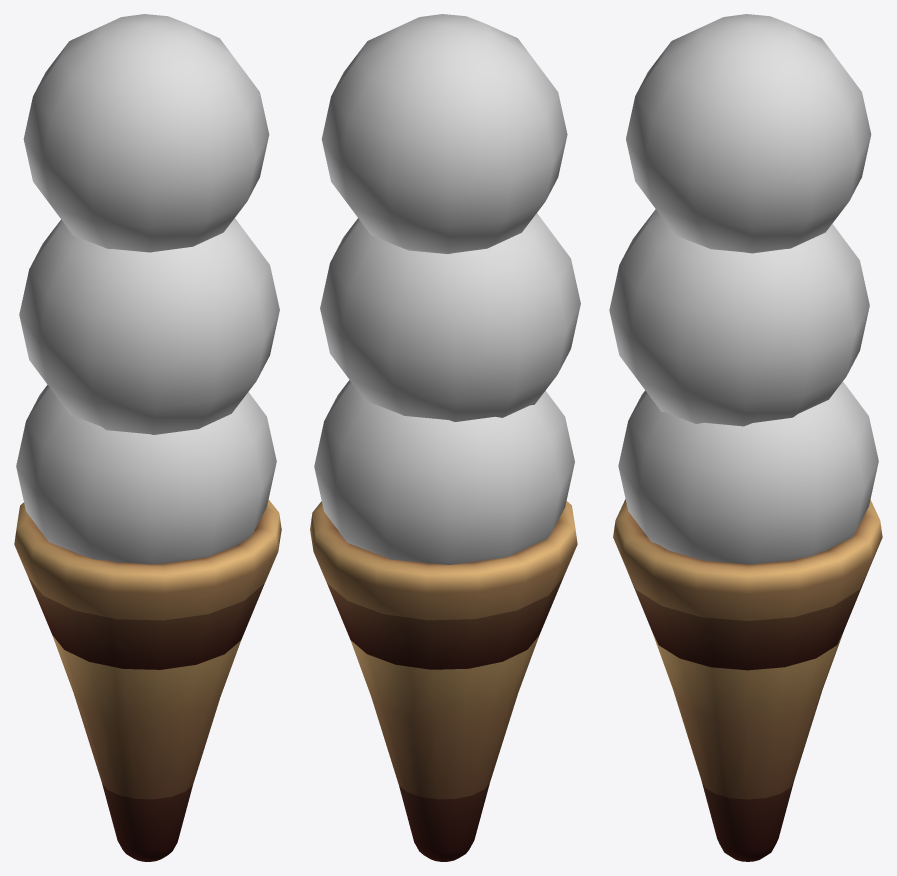
The model's file is Ice Creamm_new.fbx.
3 views of the same model, side by side, from view 1: azimuth 30°, elevation 25°; view 2: azimuth 150°, elevation 25°; view 3: azimuth 270°, elevation 25° (orthographic).
Visible parts, largest first — view 1: Cone.003, Sphere.006, Sphere.005, Sphere.004; view 2: Cone.003, Sphere.006, Sphere.005, Sphere.004; view 3: Cone.003, Sphere.006, Sphere.005, Sphere.004.
Boxes of the visible parts, box(x1,y1,x2,y2) form: Cone.003: box(14, 499, 281, 861); Sphere.006: box(23, 14, 269, 252); Sphere.005: box(19, 218, 279, 434); Sphere.004: box(16, 385, 276, 564); Cone.003: box(310, 501, 577, 861); Sphere.006: box(321, 14, 567, 254); Sphere.005: box(320, 213, 580, 421); Sphere.004: box(314, 380, 574, 564); Cone.003: box(613, 499, 882, 861); Sphere.006: box(626, 14, 871, 253); Sphere.005: box(609, 209, 869, 426); Sphere.004: box(618, 381, 878, 564).
Bounding box in the file's own units: 89.1 × 90.34 × 303.
